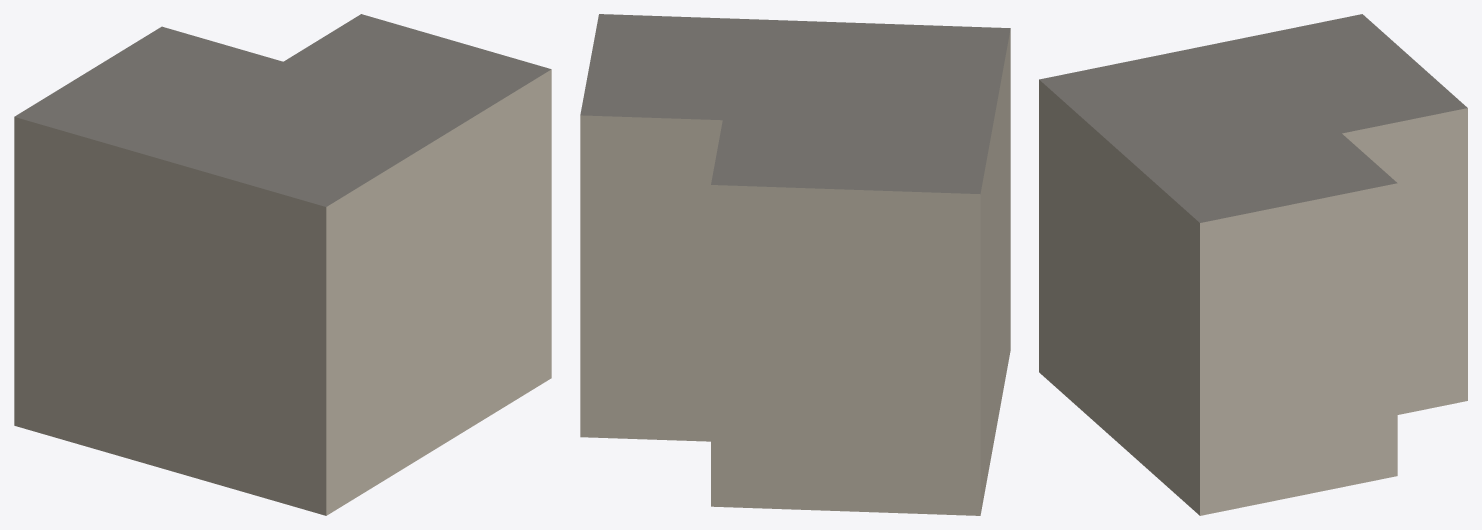
The picture shows the model from 3 angles, left to right: view 1: azimuth 30°, elevation 25°; view 2: azimuth 150°, elevation 25°; view 3: azimuth 270°, elevation 25°; orthographic projection. The views are drawn at different scales.
Parts seen in each view (by area): view 1: HP-w1202250228; view 2: HP-w1202250228; view 3: HP-w1202250228.
Boxes of the visible parts, x1,y1,x2,y2 form: HP-w1202250228: [14, 14, 551, 515]; HP-w1202250228: [580, 14, 1010, 515]; HP-w1202250228: [1039, 14, 1467, 515].
Size of the model in its own units: 18.37 by 12 by 15.92.
